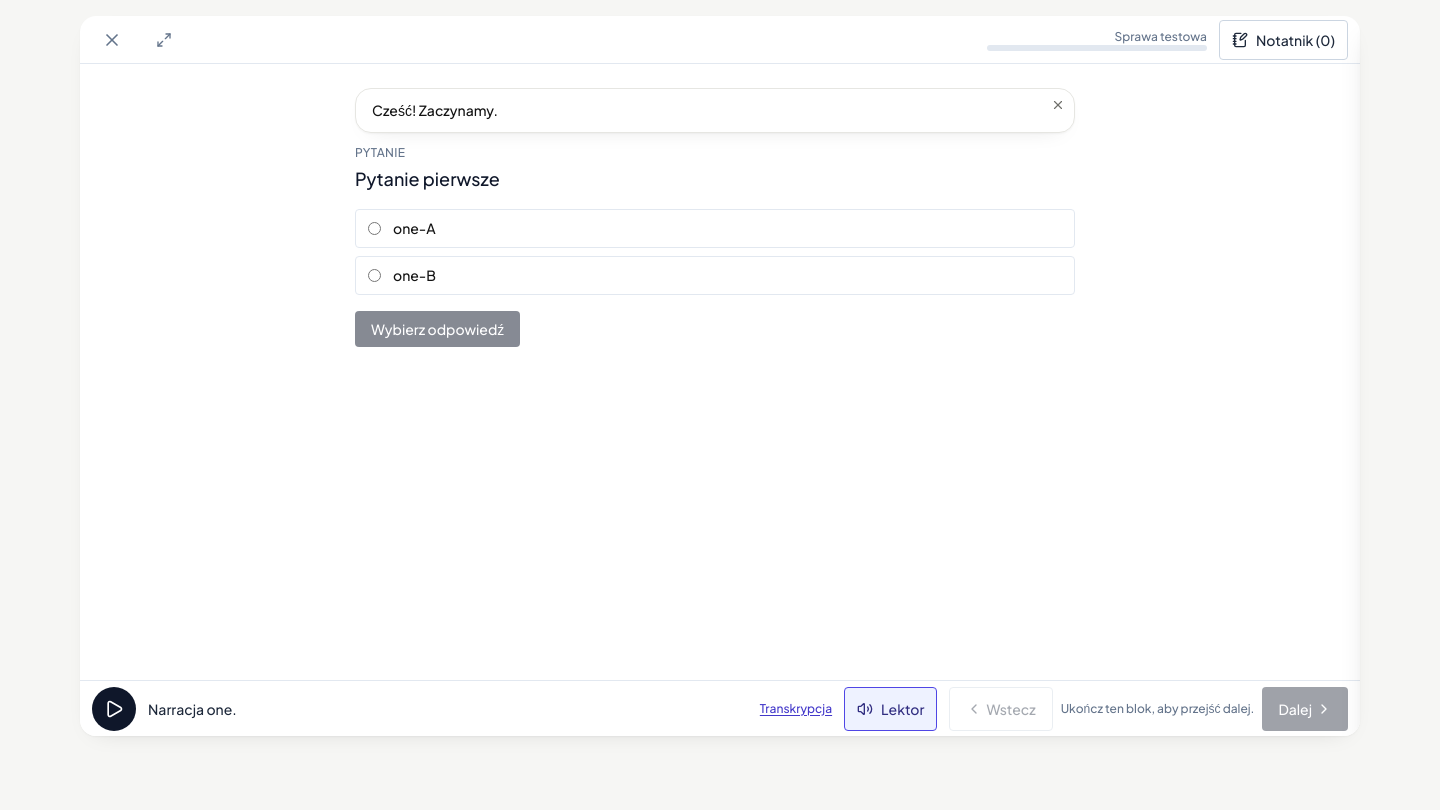
Test: CoursePlayer: powłoka (postęp, nawigacja, notatnik, lektor) › wysyłanie odpowiedzi › po błędzie serwera blokada jest zdjęta: można spróbować ponownie
Click the radio button labelled "one-A" at (374, 229), box [368,222,381,235]
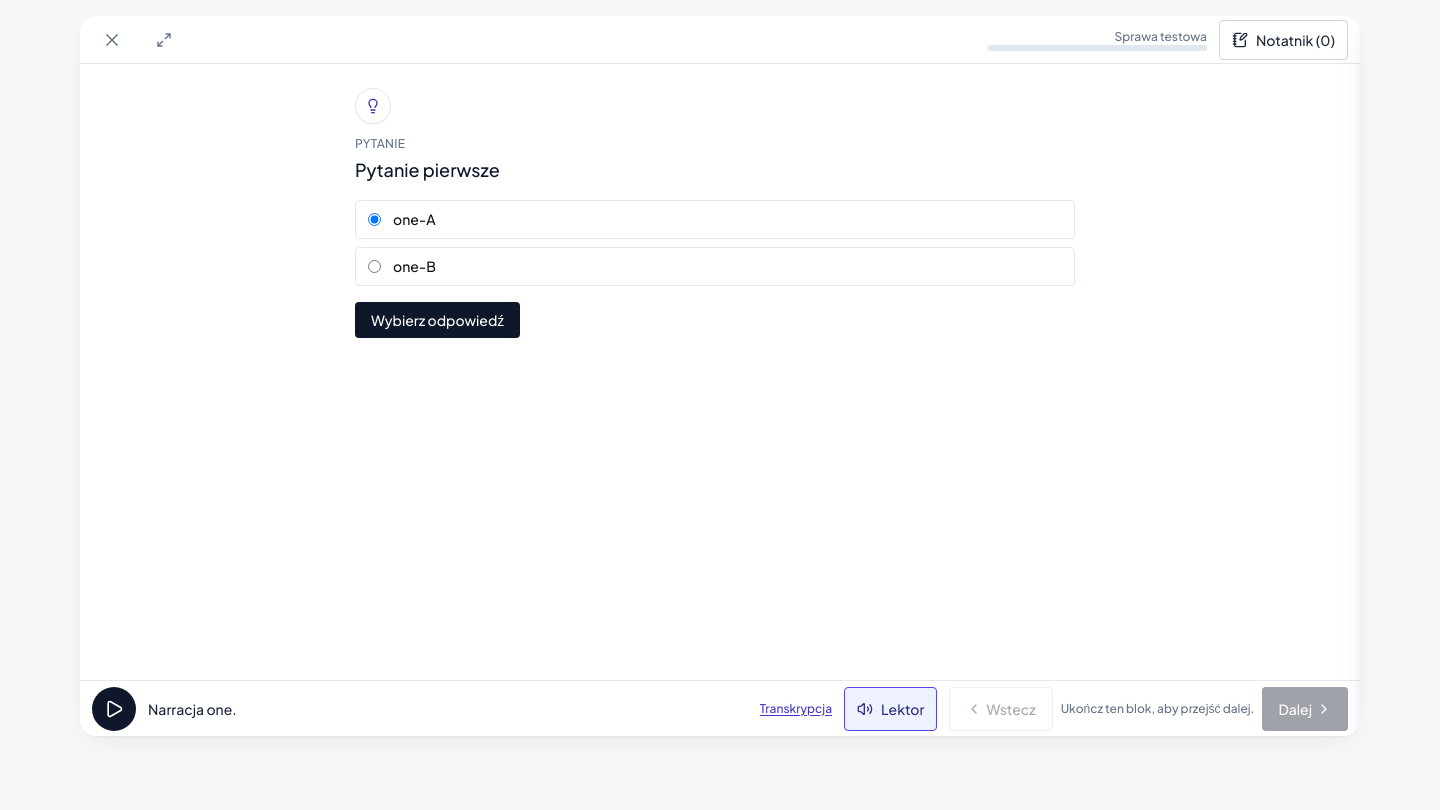
Click the button "Wybierz odpowiedź" at (438, 320), box [355,302,520,338]
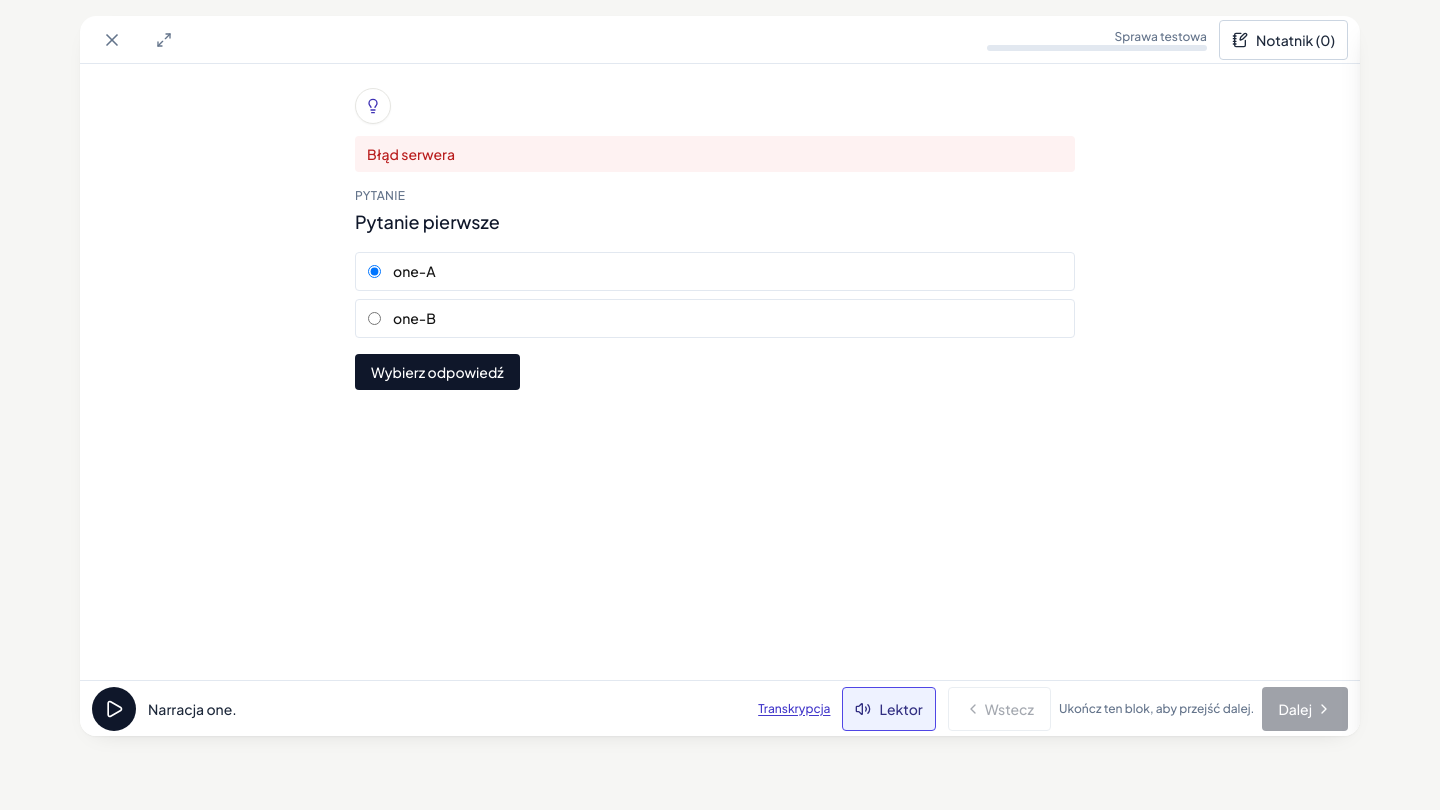
Expected: the message reads "Błąd serwera", [367,145,455,163]
Click the button "Wybierz odpowiedź" at (437, 372), box [355,354,520,390]
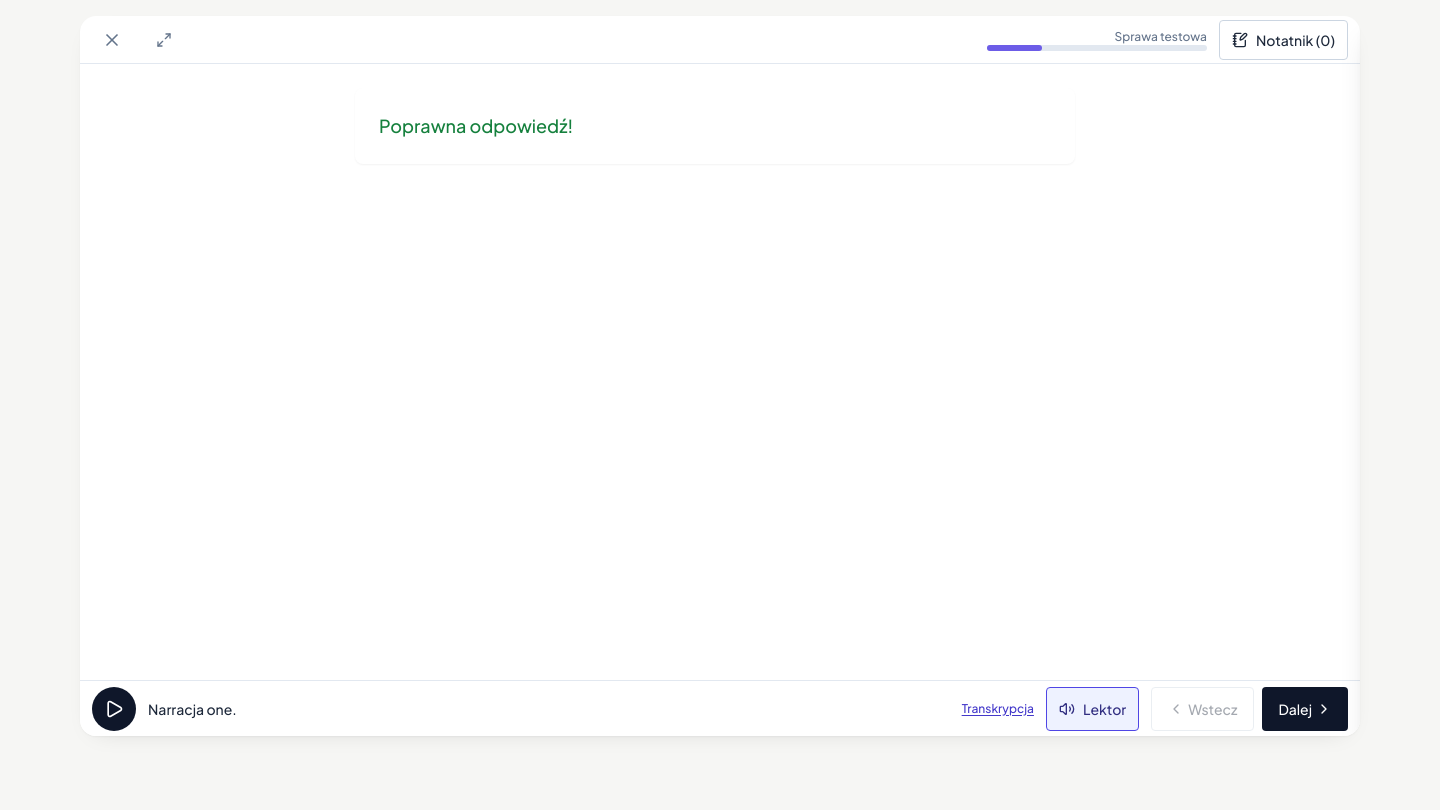
Expected: the text "Poprawna odpowiedź!" is shown, [379,114,573,137]
